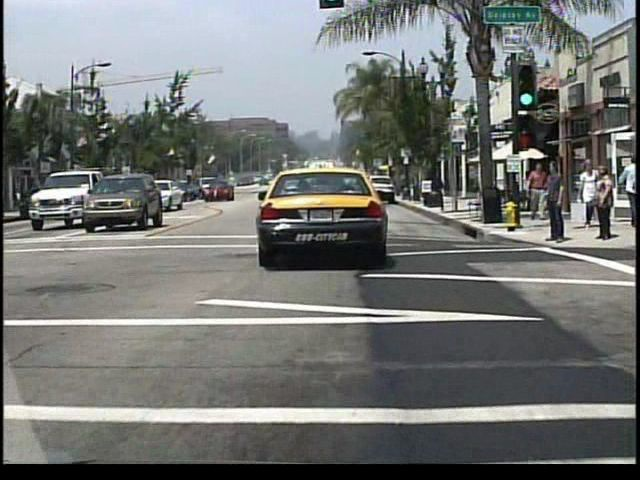person: (544, 158, 566, 244), (593, 166, 614, 243), (578, 160, 597, 230), (528, 165, 548, 219)
